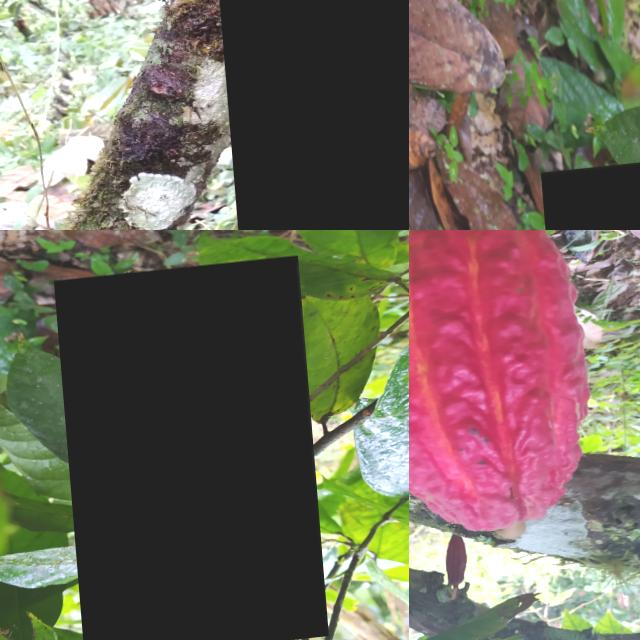Fitoftora: (51, 266, 320, 640), (214, 0, 409, 230)
Sana: (409, 230, 595, 553), (436, 542, 461, 597)
